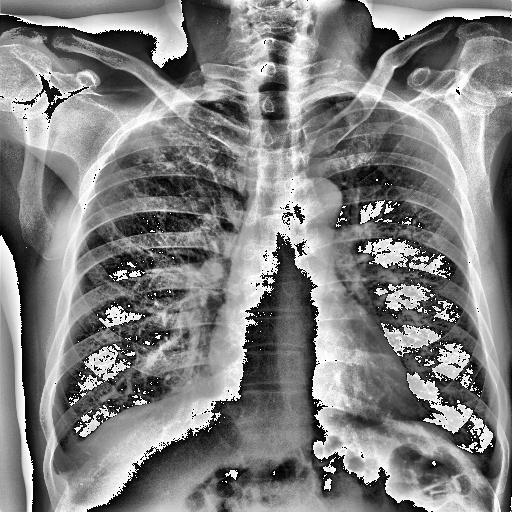0- Aortic enlargement: (288, 178, 344, 222)
10- Pleural effusion: (46, 438, 90, 484), (53, 433, 86, 482), (478, 465, 502, 491), (480, 468, 501, 492)
11- Pleural thickening: (136, 86, 226, 118), (42, 441, 84, 496), (46, 438, 90, 484), (53, 433, 86, 482), (168, 88, 230, 108), (477, 468, 506, 493), (321, 88, 387, 98), (478, 465, 502, 491), (480, 468, 501, 492), (316, 92, 376, 99)
13- Pulmonary fibrosis: (98, 98, 244, 208), (102, 106, 234, 200), (124, 90, 234, 170)
6- Infiltration: (98, 98, 244, 208), (124, 90, 234, 170)
9- Other lesion: (386, 414, 480, 462)
